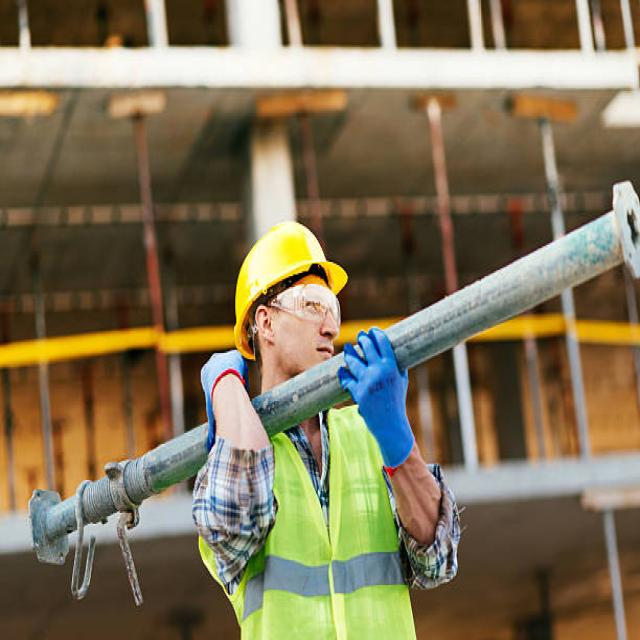gloves: (191, 436, 277, 590), (339, 326, 416, 476)
